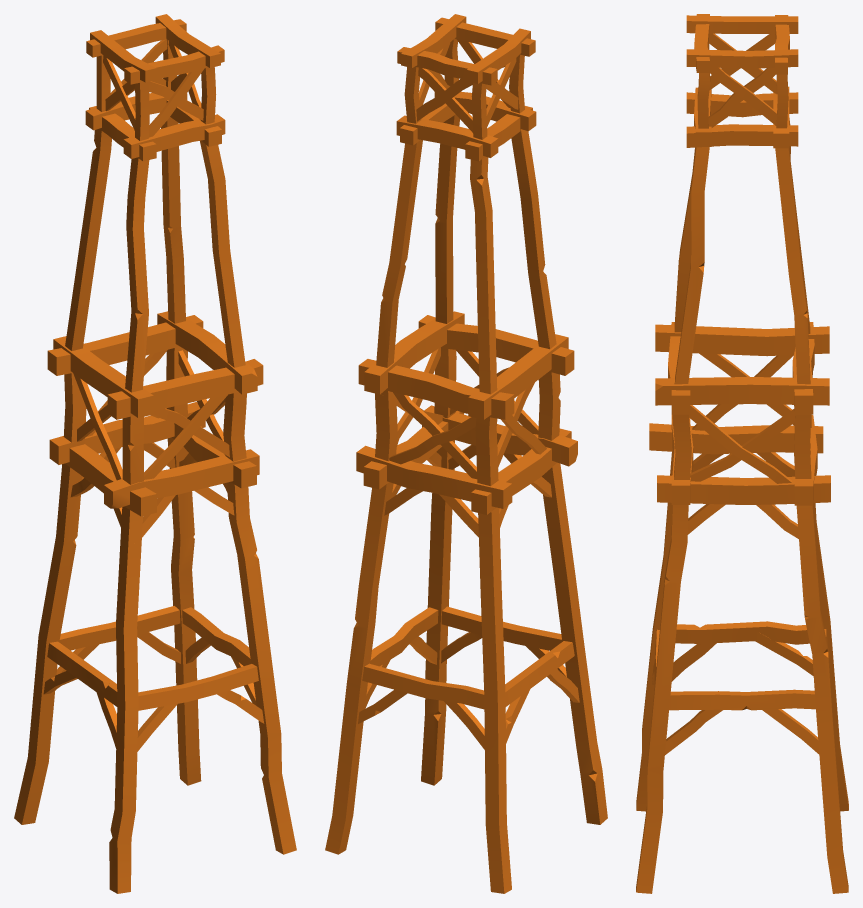
The model's file is ReseauElectrique_Bois_01.FBX.
3 renders of one model, left to right at view 1: azimuth 30°, elevation 25°; view 2: azimuth 150°, elevation 25°; view 3: azimuth 270°, elevation 25°, orthographic. The views are drawn at different scales.
Visible parts, largest first — view 1: ReseauElectrique_Bois_01_LOD0; view 2: ReseauElectrique_Bois_01_LOD0; view 3: ReseauElectrique_Bois_01_LOD0.
Boxes of the visible parts, x1=… form: ReseauElectrique_Bois_01_LOD0: x1=14, y1=14, x2=296, y2=893; ReseauElectrique_Bois_01_LOD0: x1=325, y1=14, x2=607, y2=893; ReseauElectrique_Bois_01_LOD0: x1=636, y1=14, x2=848, y2=893.
Size of the model in its own units: 400 by 1694 by 400.
